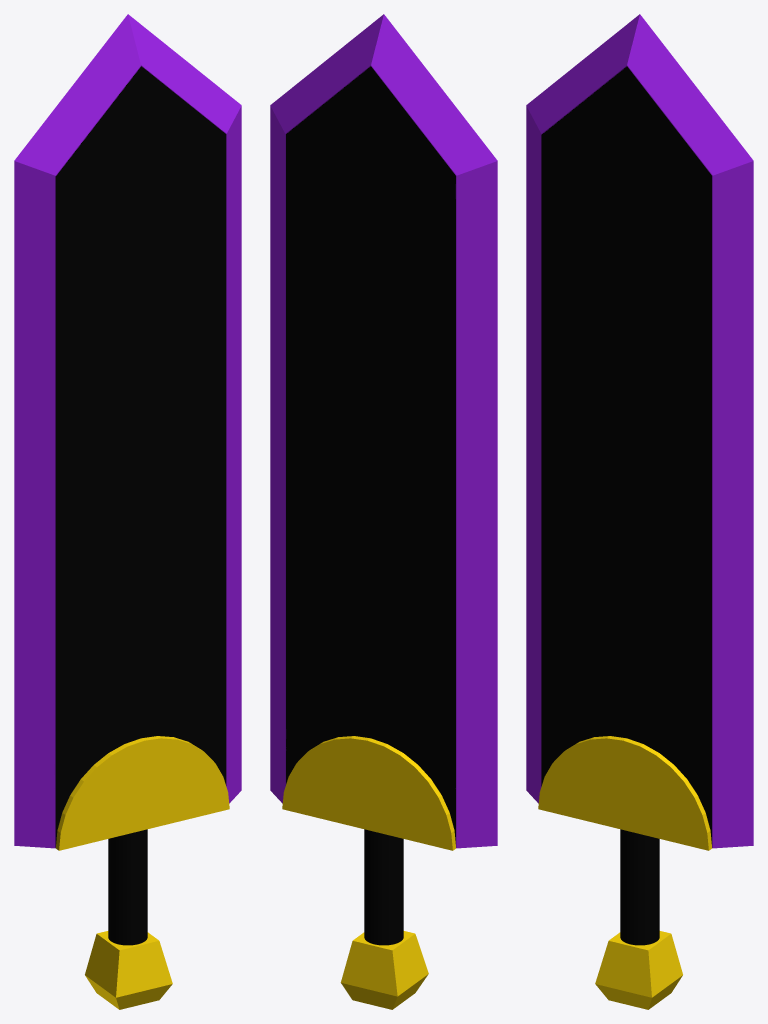
Rendered from BigStick.fbx.
The picture shows the model from 3 angles, left to right: view 1: azimuth 30°, elevation 25°; view 2: azimuth 150°, elevation 25°; view 3: azimuth 330°, elevation 25°; orthographic projection.
Parts seen in each view (by area): view 1: Cube; view 2: Cube; view 3: Cube.
Boxes of the visible parts, x1,y1,x2,y2 form: Cube: [14, 14, 241, 1009]; Cube: [270, 14, 497, 1009]; Cube: [526, 14, 753, 1009].
Bounding box in the file's own units: 800 × 3300 × 200.
1 material, 1 textured.
